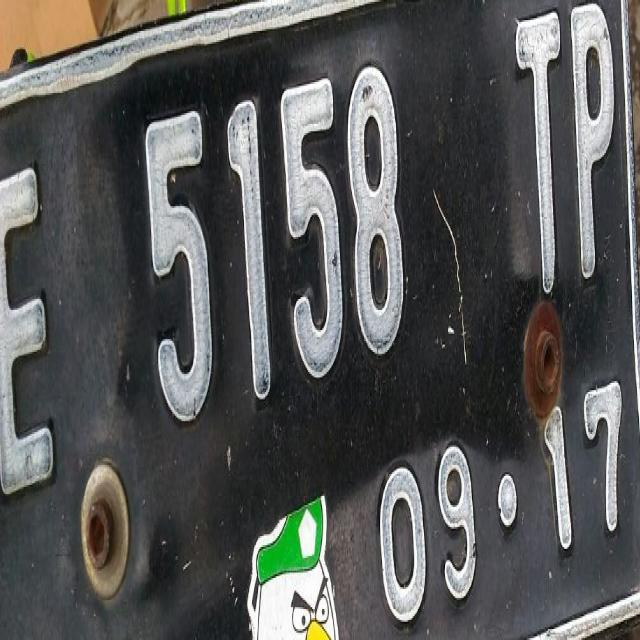plate: (1, 0, 638, 629)
